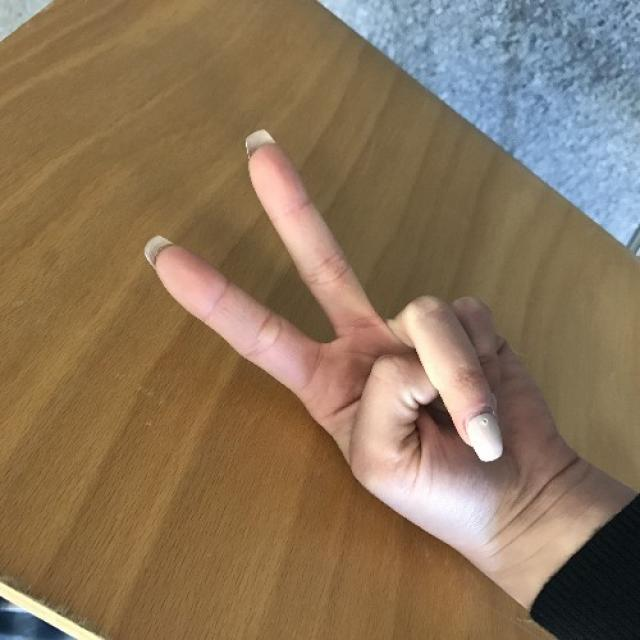scissors: (147, 130, 543, 520)
